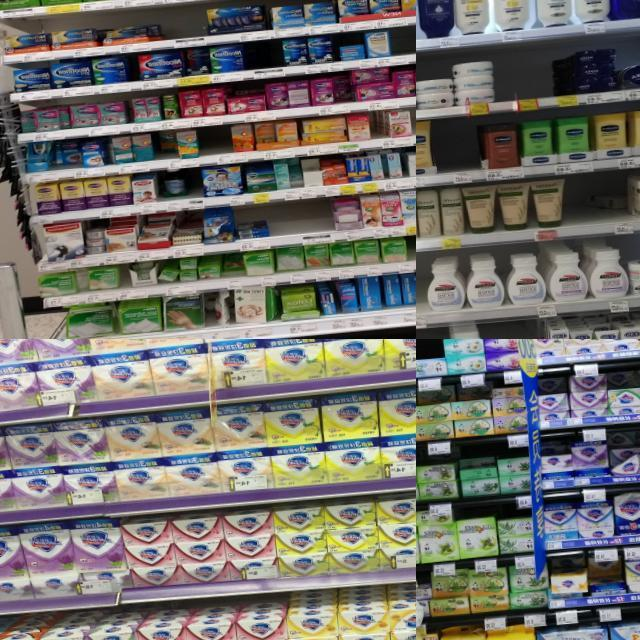Imprecise: (422, 382, 491, 434), (602, 363, 640, 419), (584, 549, 628, 597), (457, 454, 497, 500), (609, 427, 640, 482), (538, 368, 571, 419), (538, 430, 578, 472), (154, 128, 179, 160), (52, 143, 84, 168), (288, 158, 304, 191)
